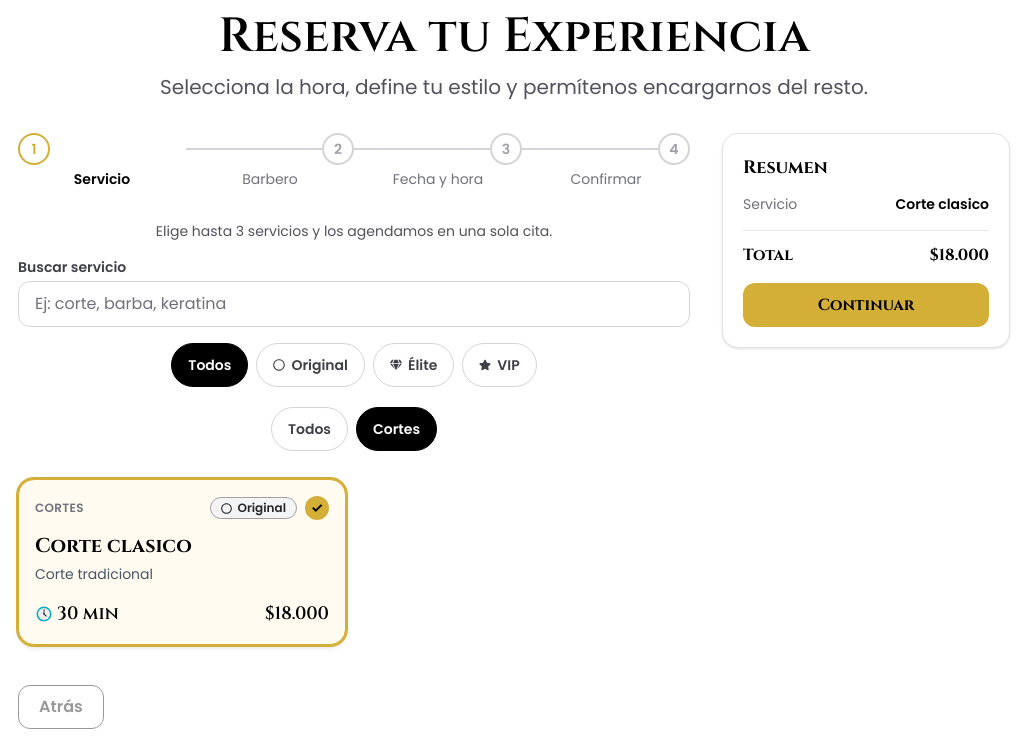
Test: ReservaCorte solo ofrece barbería › un ?barbero=<barbero de barbería> sigue preseleccionado
The width and height of the screenshot is (1027, 746).
Expected: the button "Corte clasico" is shown, left=18, top=479, right=346, bottom=645
Click the button "Continuar".
click(866, 305)  # box left=743, top=283, right=989, bottom=327
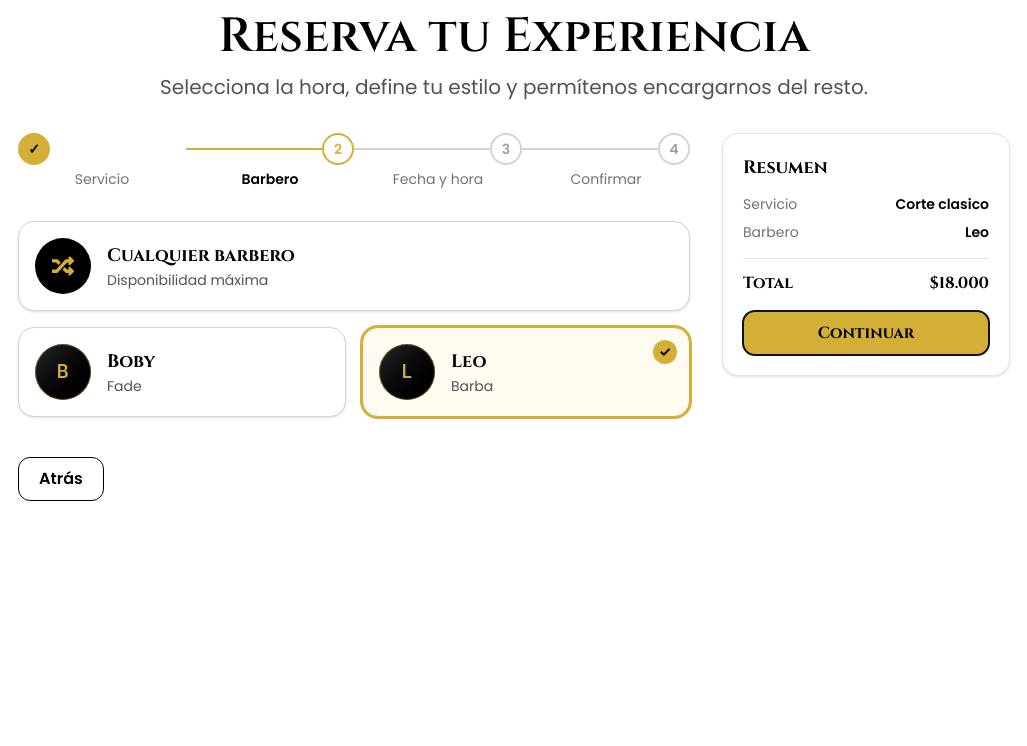
Now the heading "Cualquier barbero" is shown, box left=107, top=242, right=295, bottom=270
